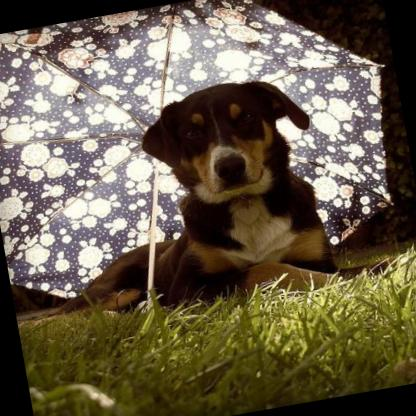Appenzeller: (11, 69, 338, 334)
